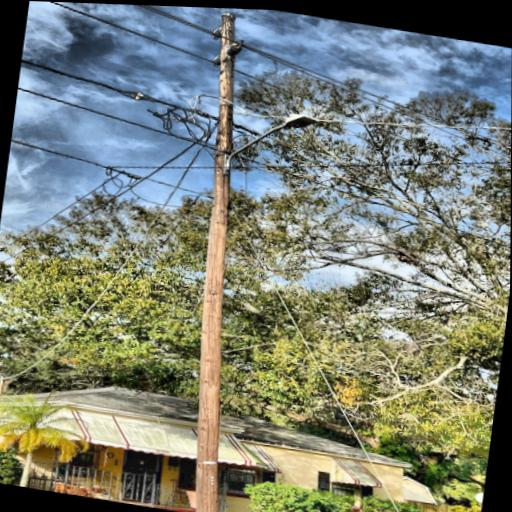pole: (148, 6, 304, 512)
street light: (214, 98, 319, 190)
